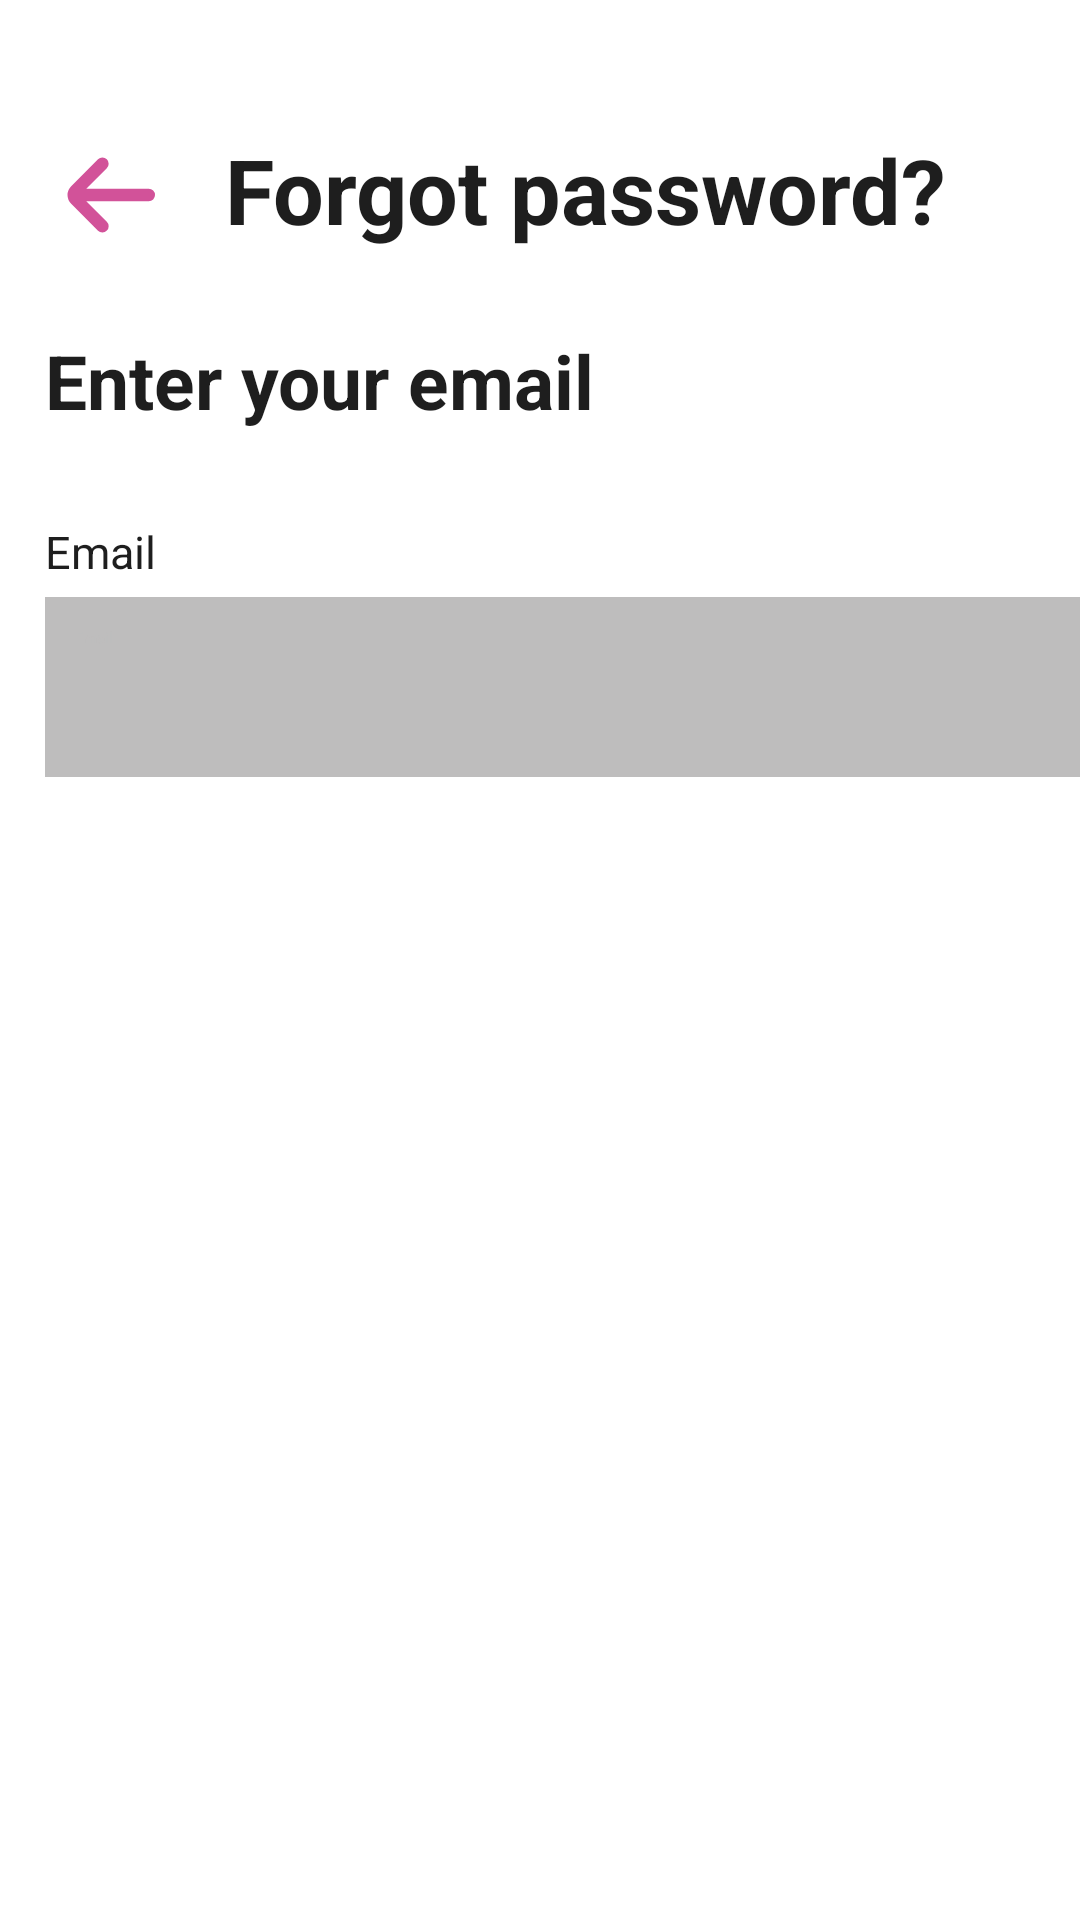

Where icons sit on this 1080px×1920px app screen, as region(x1, y1, x2, y2):
Go back: region(67, 157, 155, 233)
